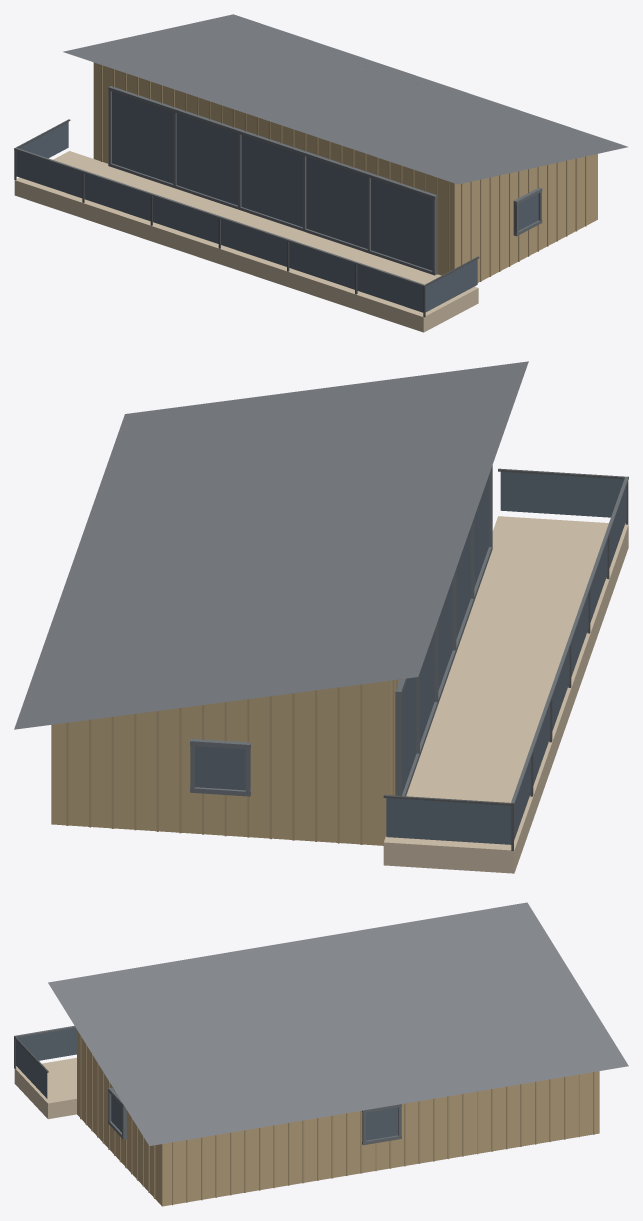
3 views of the same model, one above another, from view 1: azimuth 30°, elevation 25°; view 2: azimuth 150°, elevation 25°; view 3: azimuth 270°, elevation 25° (orthographic). The views are drawn at different scales.
Visible parts, largest first — view 1: slate, door_wood, larch, slate_dk, window_glass_009, window_glass_011, window_glass_012, window_glass_013, window_glass_010, door_wood_p, window_glass_002, window_glass_006 (+8 smaller); view 2: slate, door_wood, larch, slate_dk, door_wood_p, window_glass_007, window_glass_008, window_glass_015, pipe, window_glass_009, window_glass_012, window_glass_010 (+2 smaller); view 3: slate, door_wood, door_wood_p, larch, window_glass_006, slate_dk, window_glass_014, window_glass_008.
Boxes of the visible parts, left/top/right/bottom form: slate: left=63, top=14, right=627, bottom=184; door_wood: left=93, top=62, right=597, bottom=282; larch: left=14, top=151, right=478, bottom=332; slate_dk: left=14, top=86, right=542, bottom=286; window_glass_009: left=112, top=91, right=173, bottom=183; window_glass_011: left=241, top=135, right=302, bottom=227; window_glass_012: left=306, top=156, right=367, bottom=248; window_glass_013: left=371, top=178, right=432, bottom=270; window_glass_010: left=176, top=113, right=237, bottom=205; door_wood_p: left=101, top=65, right=586, bottom=281; window_glass_002: left=84, top=173, right=150, bottom=221; window_glass_006: left=357, top=265, right=423, bottom=312; slate: left=14, top=361, right=528, bottom=729; door_wood: left=51, top=679, right=399, bottom=845; larch: left=383, top=516, right=628, bottom=873; slate_dk: left=190, top=465, right=628, bottom=804; door_wood_p: left=66, top=679, right=400, bottom=844; window_glass_007: left=386, top=798, right=511, bottom=844; window_glass_008: left=500, top=471, right=624, bottom=517; window_glass_015: left=195, top=746, right=245, bottom=790; pipe: left=383, top=468, right=628, bottom=850; window_glass_009: left=402, top=677, right=416, bottom=794; window_glass_012: left=456, top=527, right=470, bottom=639; window_glass_010: left=420, top=631, right=434, bottom=742; slate: left=48, top=902, right=628, bottom=1145; door_wood: left=77, top=1030, right=599, bottom=1206; door_wood_p: left=80, top=1035, right=594, bottom=1205; larch: left=14, top=1057, right=76, bottom=1119; window_glass_006: left=18, top=1028, right=76, bottom=1060; slate_dk: left=15, top=1025, right=401, bottom=1145; window_glass_014: left=366, top=1107, right=398, bottom=1140; window_glass_008: left=15, top=1039, right=47, bottom=1098.
Bounding box in the file's own units: 14.87 × 4.02 × 17.72.
